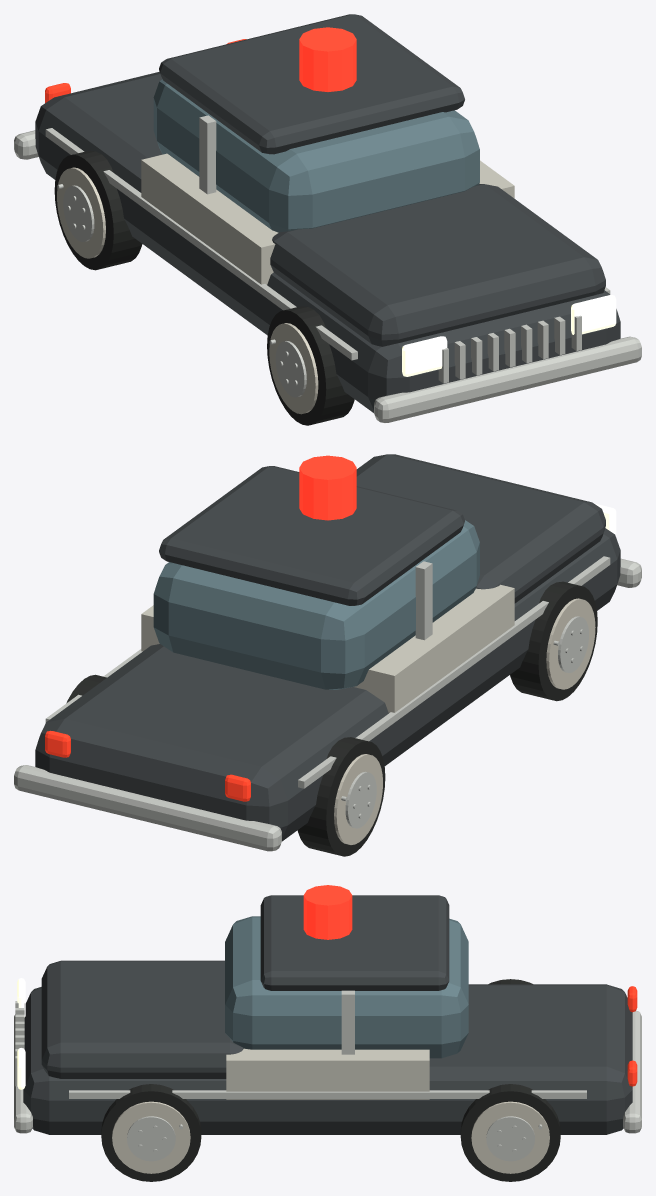
File: police.glb
3 renders of one model, top to bottom at view 1: azimuth 30°, elevation 25°; view 2: azimuth 150°, elevation 25°; view 3: azimuth 270°, elevation 25°, orthographic. The views are drawn at different scales.
Parts seen in each view (by area): view 1: chassis, cabin glass, centre pillar, police door panel, wheel, wheel.001, red beacon, headlight, whitewall, whitewall.001, hubcap.001, hubcap; view 2: chassis, cabin glass, centre pillar, police door panel, wheel.001, wheel, red beacon, whitewall, whitewall.001, hubcap.001, hubcap, tail lamp; view 3: chassis, cabin glass, police door panel, centre pillar, wheel.002, wheel.003, whitewall.002, whitewall.003, red beacon, hubcap.003, hubcap.002, headlight (+1 smaller).
Part boxes in pixels (left/top/right/bottom): chassis: left=35, top=14, right=620, bottom=412; cabin glass: left=153, top=79, right=479, bottom=232; centre pillar: left=14, top=115, right=641, bottom=422; police door panel: left=141, top=153, right=514, bottom=284; wheel: left=267, top=306, right=354, bottom=425; wheel.001: left=54, top=150, right=142, bottom=270; red beacon: left=299, top=27, right=356, bottom=91; headlight: left=402, top=295, right=616, bottom=376; whitewall: left=269, top=323, right=318, bottom=414; whitewall.001: left=57, top=167, right=105, bottom=258; hubcap.001: left=57, top=184, right=94, bottom=241; hubcap: left=269, top=339, right=306, bottom=397; chassis: left=35, top=454, right=620, bottom=841; cabin glass: left=153, top=520, right=479, bottom=689; centre pillar: left=14, top=556, right=641, bottom=851; police door panel: left=141, top=584, right=514, bottom=712; wheel.001: left=297, top=737, right=385, bottom=856; wheel: left=510, top=581, right=597, bottom=701; red beacon: left=299, top=455, right=356, bottom=520; whitewall: left=546, top=598, right=595, bottom=689; whitewall.001: left=334, top=754, right=382, bottom=844; hubcap.001: left=341, top=771, right=376, bottom=828; hubcap: left=553, top=616, right=588, bottom=672; tail lamp: left=45, top=730, right=250, bottom=801; chassis: left=23, top=895, right=632, bottom=1134; cabin glass: left=225, top=916, right=468, bottom=1058; police door panel: left=226, top=1048, right=429, bottom=1099; centre pillar: left=14, top=990, right=641, bottom=1133; wheel.002: left=101, top=1084, right=201, bottom=1181; wheel.003: left=460, top=1084, right=560, bottom=1181; whitewall.002: left=112, top=1101, right=190, bottom=1173; whitewall.003: left=471, top=1101, right=549, bottom=1173; red beacon: left=303, top=885, right=352, bottom=939; hubcap.003: left=486, top=1116, right=542, bottom=1161; hubcap.002: left=127, top=1116, right=182, bottom=1161; headlight: left=17, top=978, right=25, bottom=1089.
Bounding box in the file's own units: 2.08 × 1.88 × 4.64.
